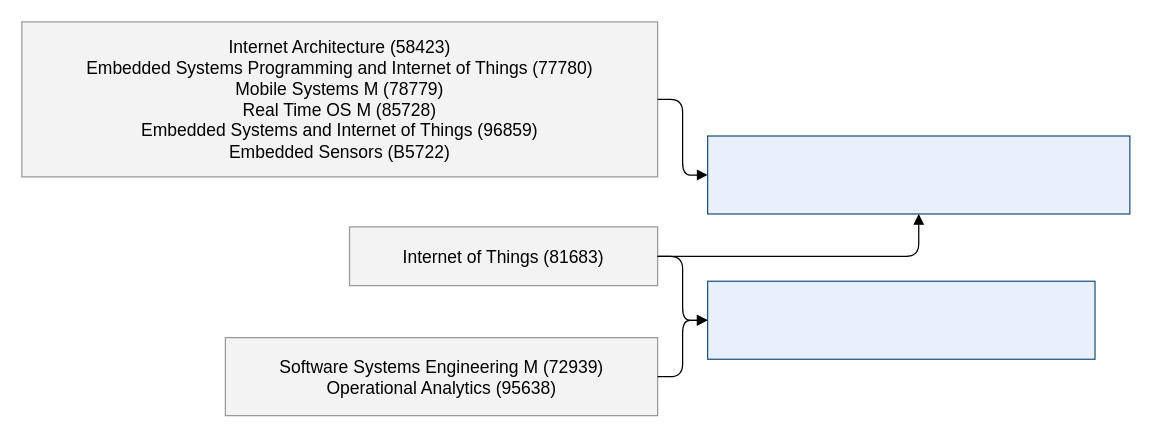
The diagram is 1153 pixels wide and 438 high, and some of its shapes have lost their labels. The shapes that lost their labels are listed below. From the top down, each one's centre as x and y in pixels, then its label:
point (918, 174): Embedded Execution and ESP32 Runtime 3 ECTS
point (900, 319): IoT Communication and Sensor Data 3 ECTS
